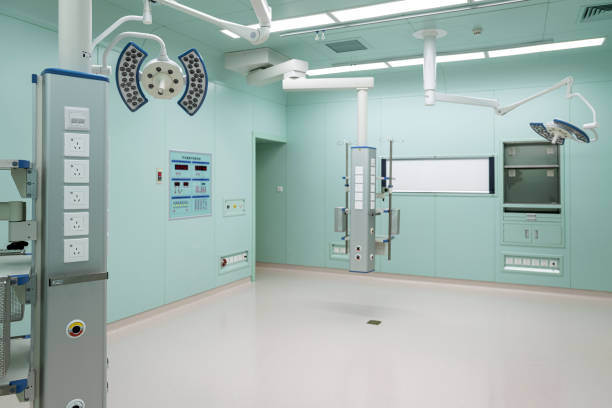handle: (534, 230, 540, 242), (523, 229, 528, 240)
surgical_light: (116, 40, 210, 116), (528, 119, 590, 147)
